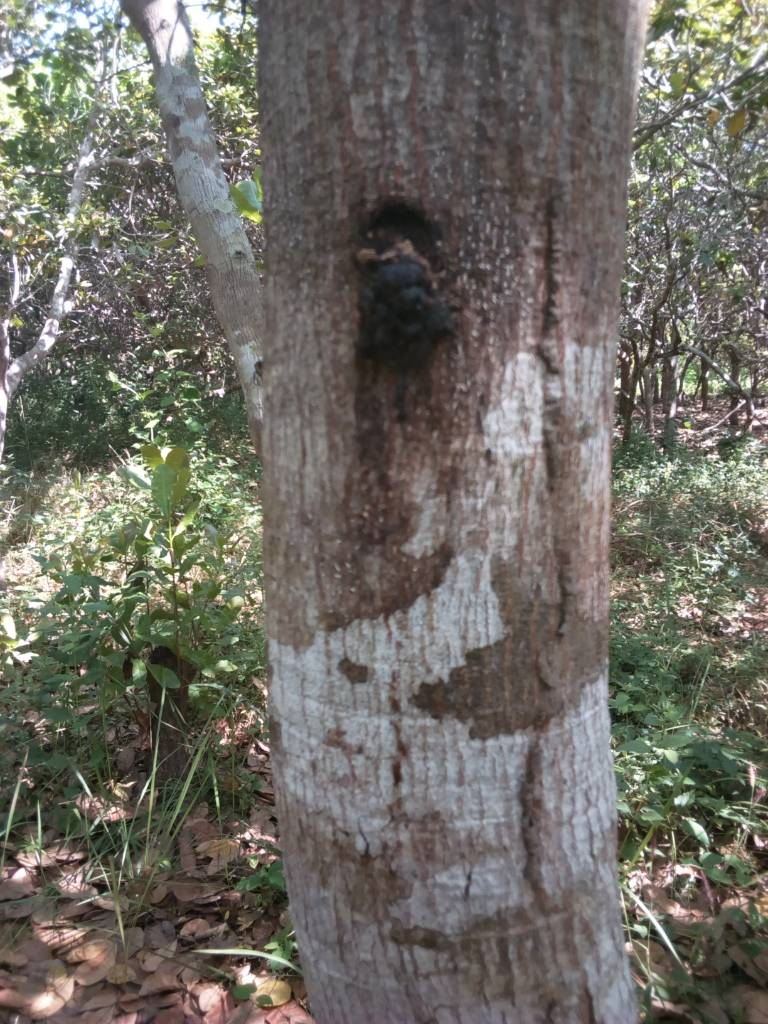Apate terebrans: (313, 191, 479, 364)
